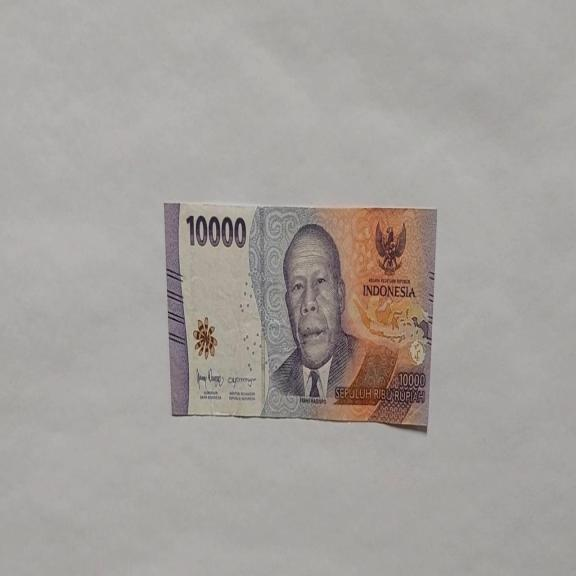Kertas: (164, 199, 437, 430), (185, 212, 247, 250)
